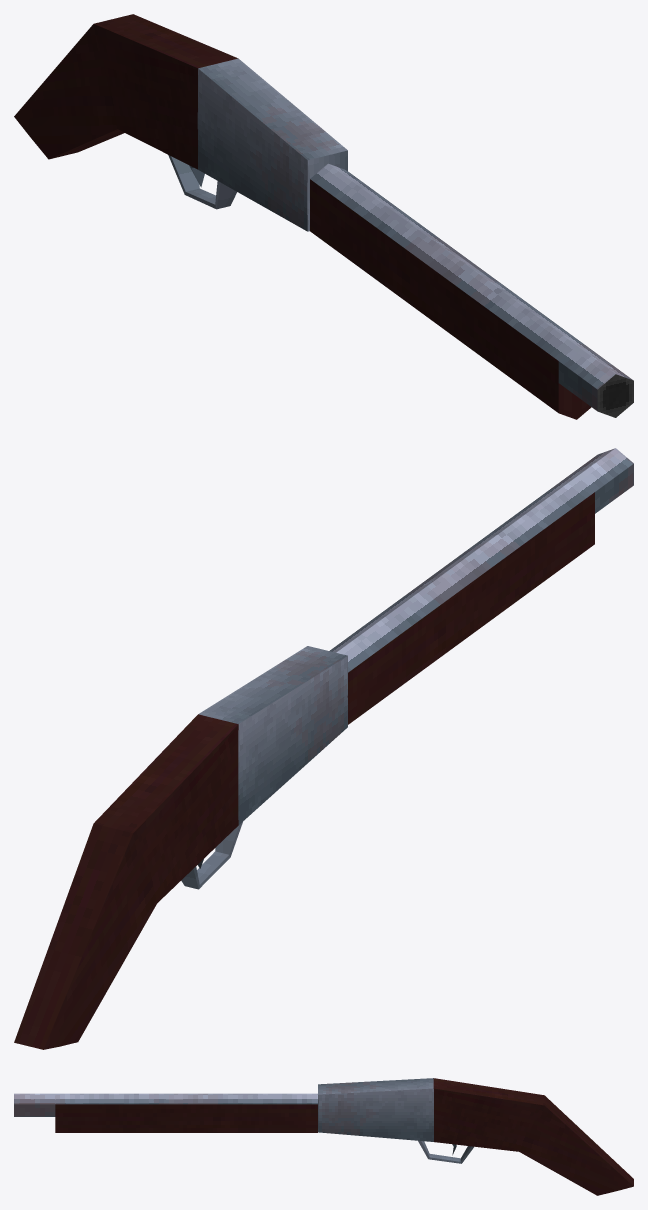
File: shotgun.glb
3 renders of one model, top to bottom at view 1: azimuth 30°, elevation 25°; view 2: azimuth 150°, elevation 25°; view 3: azimuth 270°, elevation 25°, orthographic. The views are drawn at different scales.
Visible parts, largest first — view 1: Cylinder; view 2: Cylinder; view 3: Cylinder.
Part boxes in pixels (bbox=[...]): Cylinder: bbox=[14, 14, 633, 419]; Cylinder: bbox=[14, 448, 633, 1049]; Cylinder: bbox=[14, 1078, 633, 1195].
Bounding box in the file's own units: 0.0429 × 0.2089 × 1.08.
Materials: 1 (1 with a texture image).
